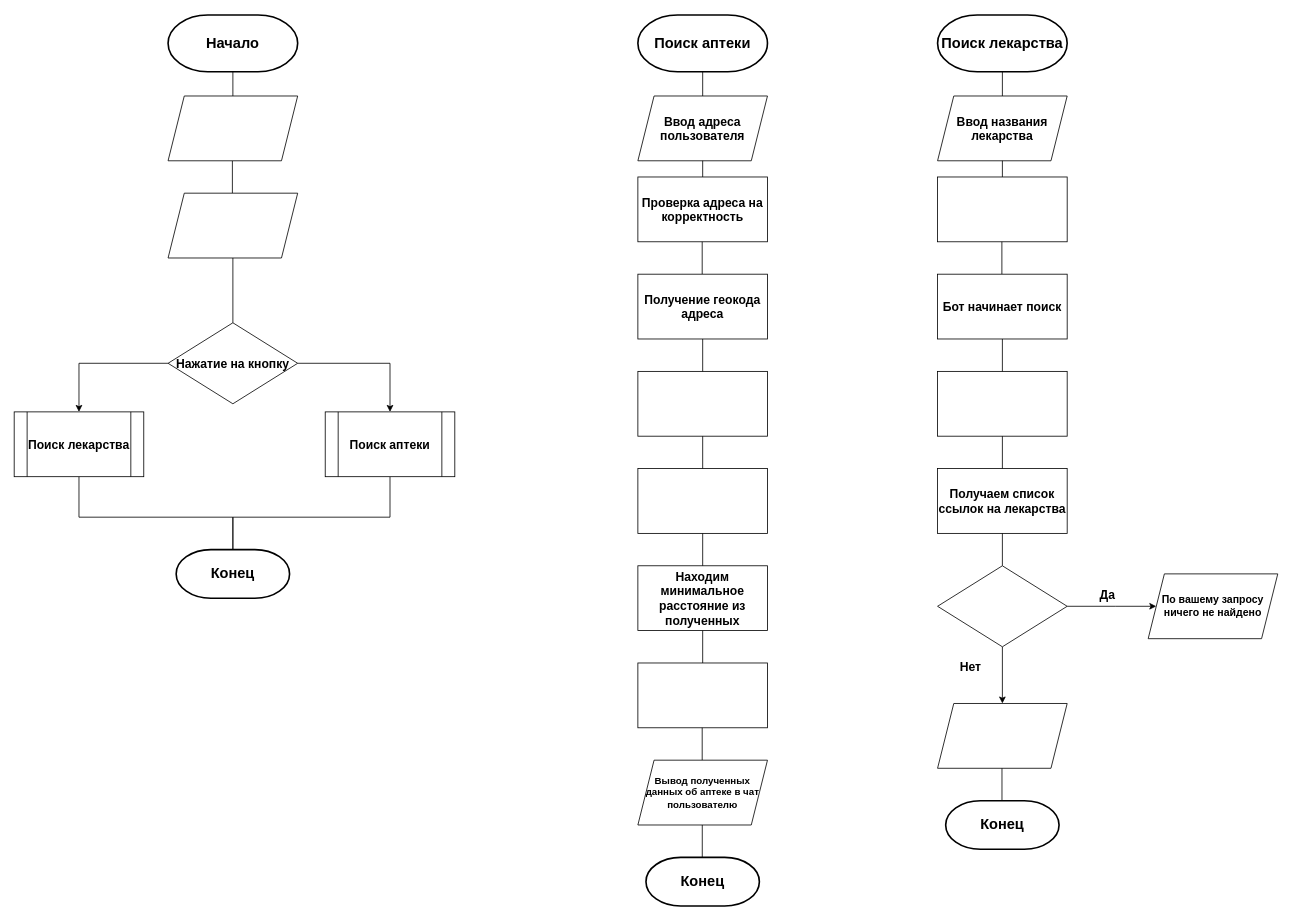
Image size: 1292x920. Some labels were removed from this diagram. Here are the shapes that lost their labels. From the top down, the box of each, then its label:
(167, 95, 298, 161): '/start'
(167, 192, 298, 258): Приветствие
(937, 176, 1067, 242): Делаем запрос поиска по заданному URL
(637, 371, 767, 436): Создаём дата-фрейм из csv файла
(937, 371, 1067, 436): Парсим страницу результата
(637, 468, 767, 533): Расчёт расстояния до каждой аптеки относительно пользователя
(937, 565, 1067, 647): Список пуст
(637, 662, 767, 728): Получаем данные об аптеке с кратчайшим расстоянием
(937, 703, 1067, 768): Вывод первых десяти ссылок в чат с пользователем
